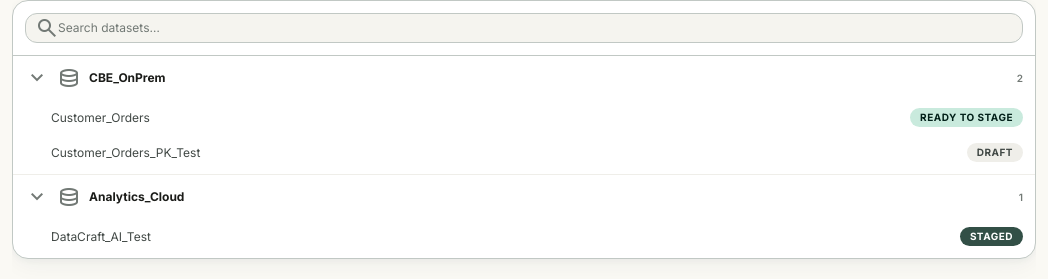
Test: ConnectionDatasetExplorer › collapses and re-expands a connection on click
This screenshot has width=1048, height=279.
Expected: the text "Customer_Orders" is shown, 51,110 -> 150,124
Click the button "CBE_OnPrem 2" at point(127, 78), box 13,56 -> 1035,100
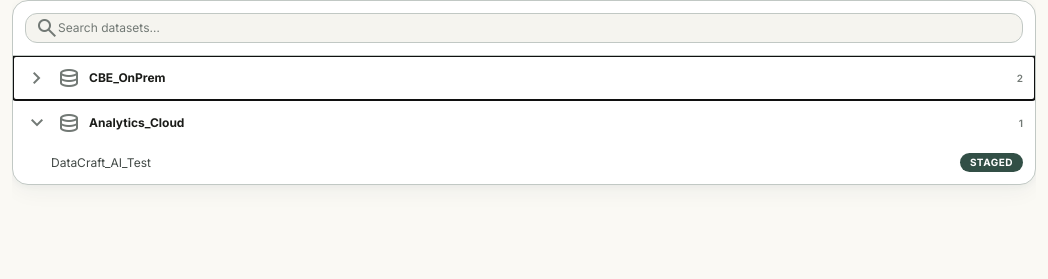
Now the button "Customer_Orders" is gone
Click the button "CBE_OnPrem 2" at point(127, 78), box 13,56 -> 1035,100
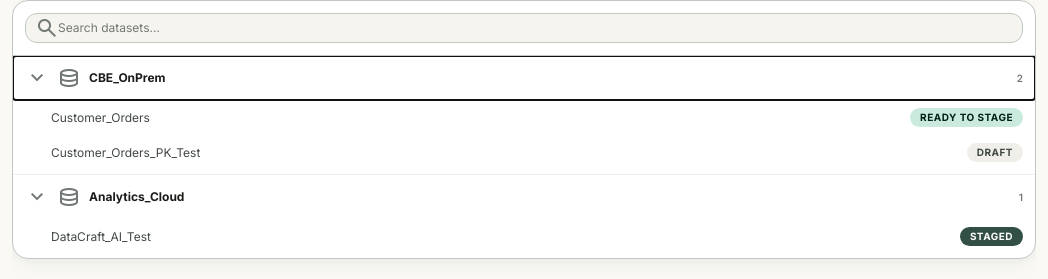
Now the text "Customer_Orders" is shown, box 51,110 -> 150,124
